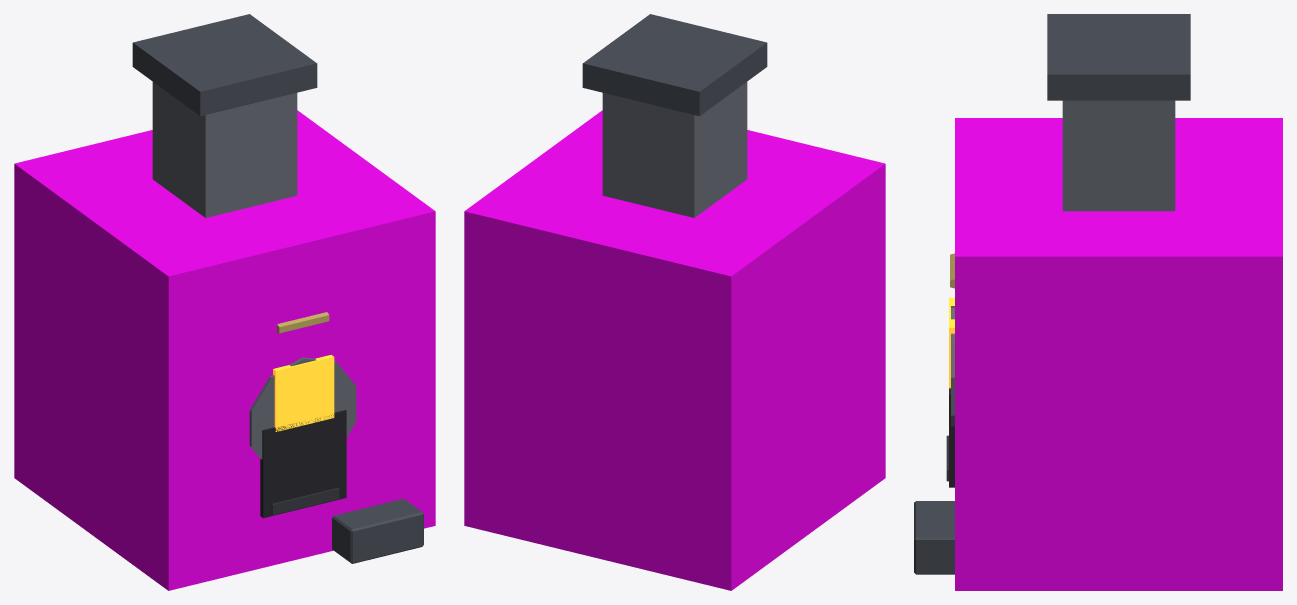
Rendered from furnace.glb.
3 views of the same model, side by side, from view 1: azimuth 30°, elevation 25°; view 2: azimuth 150°, elevation 25°; view 3: azimuth 270°, elevation 25° (orthographic). The views are drawn at different scales.
Parts seen in each view (by area): view 1: Col_main, M_b1, M_b2, M_b3, Glow, M_b4, M_b7; view 2: Col_main, M_b1, M_b2; view 3: Col_main, M_b2, M_b1.
Boxes of the visible parts, x1,y1,x2,y2 form: Col_main: (14,110,435,590); M_b1: (152,82,356,459); M_b2: (132,14,423,563); M_b3: (260,410,346,518); Glow: (273,355,334,431); M_b4: (271,487,339,514); M_b7: (277,312,329,333); Col_main: (464,110,885,590); M_b1: (602,82,747,217); M_b2: (582,14,767,116); Col_main: (955,118,1282,590); M_b2: (914,14,1190,574); M_b1: (951,100,1175,426).
Size of the model in its own units: 1.6 by 2.57 by 1.8.
